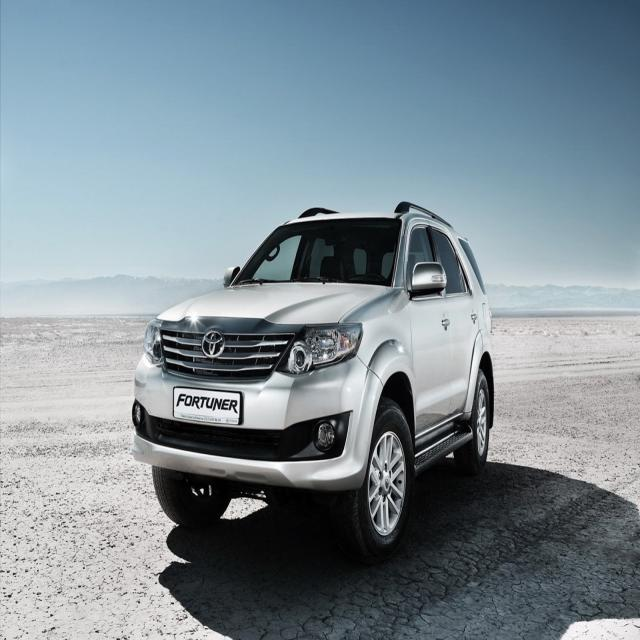light_vehicle: (130, 203, 496, 564)
